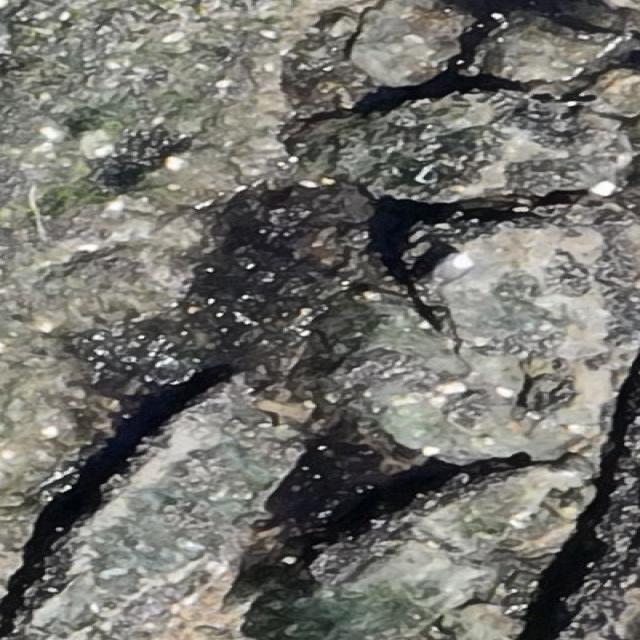umineko: (434, 252, 472, 282), (589, 180, 616, 195)
